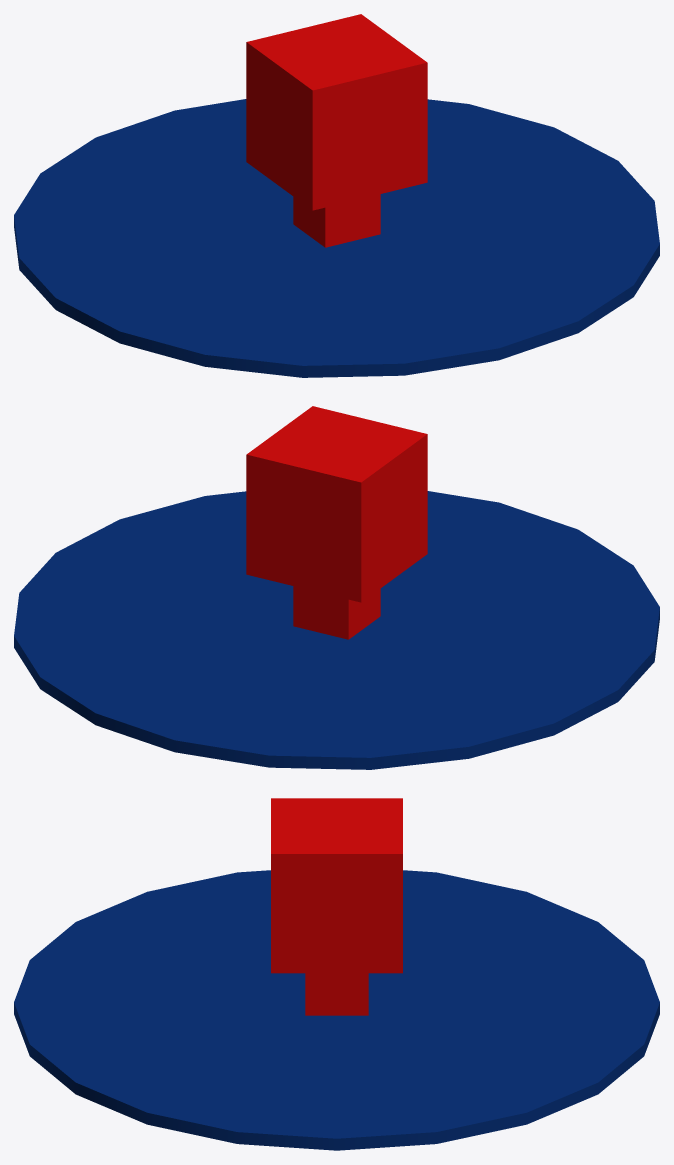
Rendered from vb_light.fbx.
3 renders of one model, top to bottom at view 1: azimuth 30°, elevation 25°; view 2: azimuth 150°, elevation 25°; view 3: azimuth 270°, elevation 25°, orthographic.
Visible parts, largest first — view 1: medical_bay_light; view 2: medical_bay_light; view 3: medical_bay_light.
Boxes of the visible parts, x1,y1,x2,y2 form: medical_bay_light: (14,14,659,377); medical_bay_light: (14,406,659,769); medical_bay_light: (14,798,659,1150).
Size of the model in its own units: 3.79 by 1.22 by 3.79.
